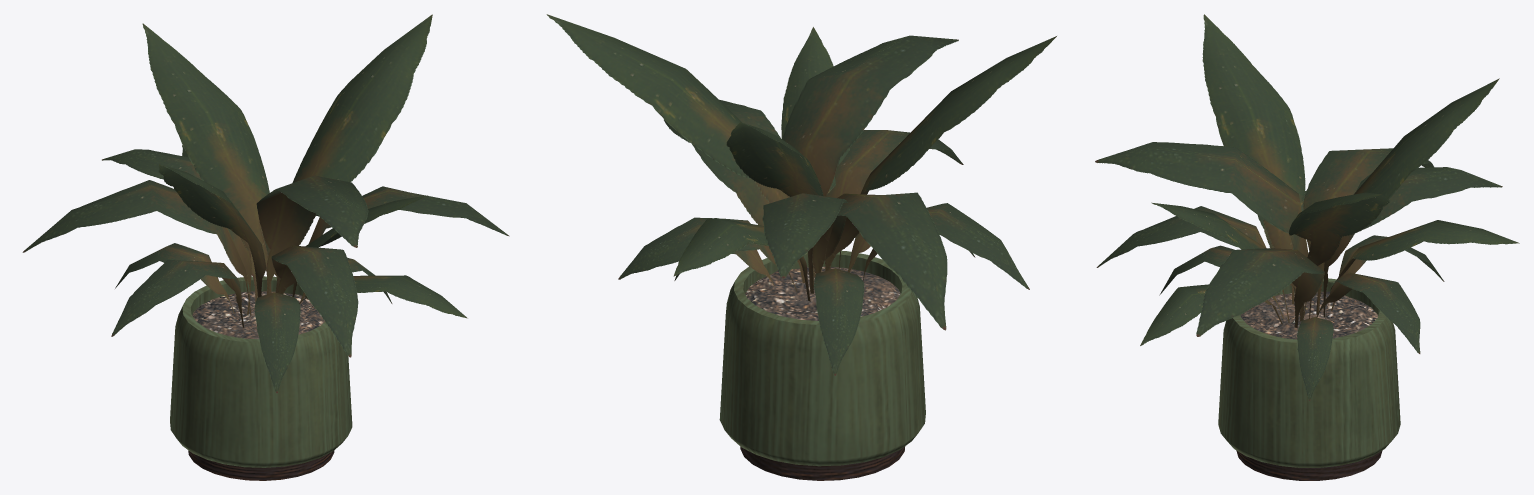
Rendered from SM_NYC2_Flower_02.FBX.
The picture shows the model from 3 angles, left to right: view 1: azimuth 30°, elevation 25°; view 2: azimuth 150°, elevation 25°; view 3: azimuth 270°, elevation 25°; orthographic projection. The views are drawn at different scales.
Parts seen in each view (by area): view 1: SM_NYC2_Flower_02_LOD0; view 2: SM_NYC2_Flower_02_LOD0; view 3: SM_NYC2_Flower_02_LOD0.
Part boxes in pixels (x1,y1,x2,y2): SM_NYC2_Flower_02_LOD0: (22, 14, 509, 480); SM_NYC2_Flower_02_LOD0: (546, 14, 1056, 480); SM_NYC2_Flower_02_LOD0: (1095, 14, 1519, 480).
Size of what is drawn, in the model's own units: 61.5 by 59.94 by 55.02.
